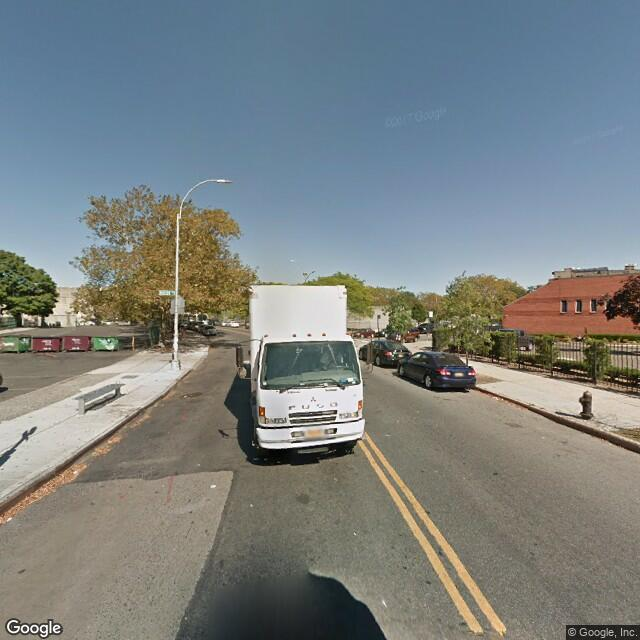litter: (12, 411, 154, 524)
